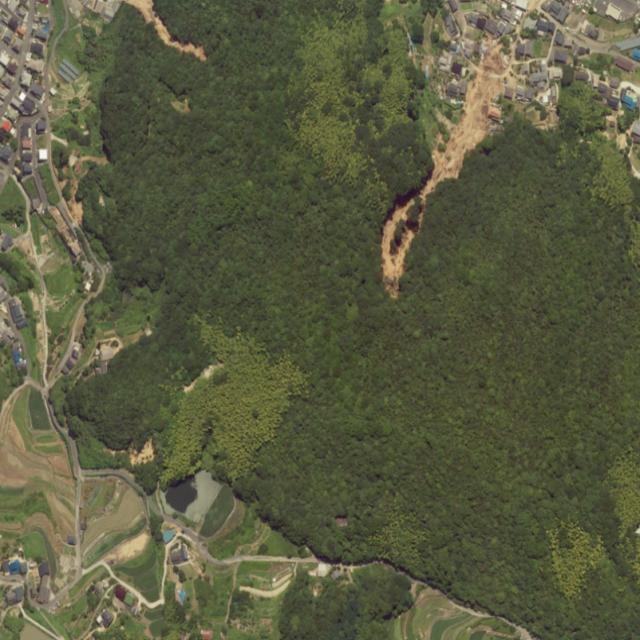landslide: (382, 45, 507, 297)
